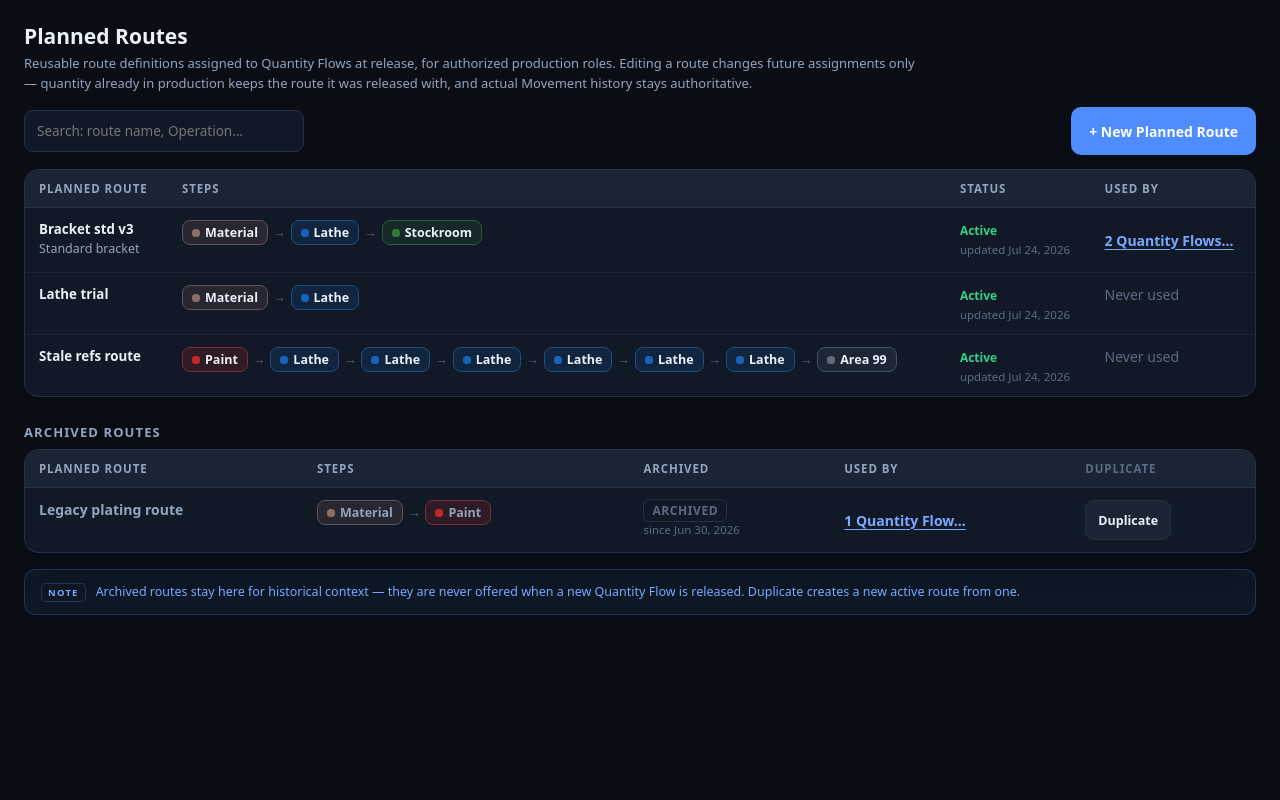
changing a step Area keeps only what the new Area offers
Expected: the text "Bracket std v3" is shown, [39,220,134,238]
Expected: the row that starts with "Bracket std v3" is shown, [25,208,1255,273]
Click the button with aria-label "Edit Bracket std v3" at (96, 239), box [39,220,154,257]
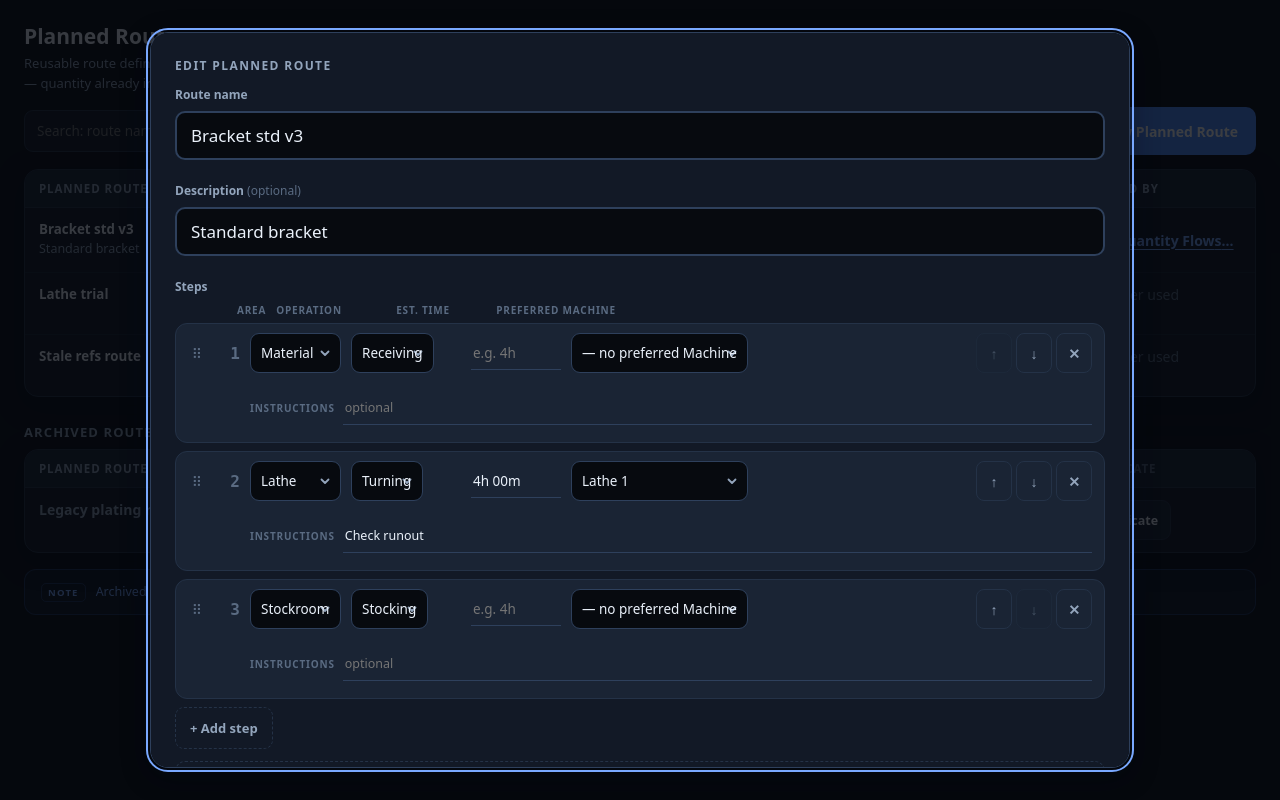
Now the dropdown named "Step 2 Operation" shows "Turning", box [351,461,423,501]
Now the dropdown named "Step 2 preferred Machine" shows "Lathe 1", box [571,461,748,501]
Select "Mill" in the dropdown named "Step 2 Area" at (296, 481), box [250,461,341,501]
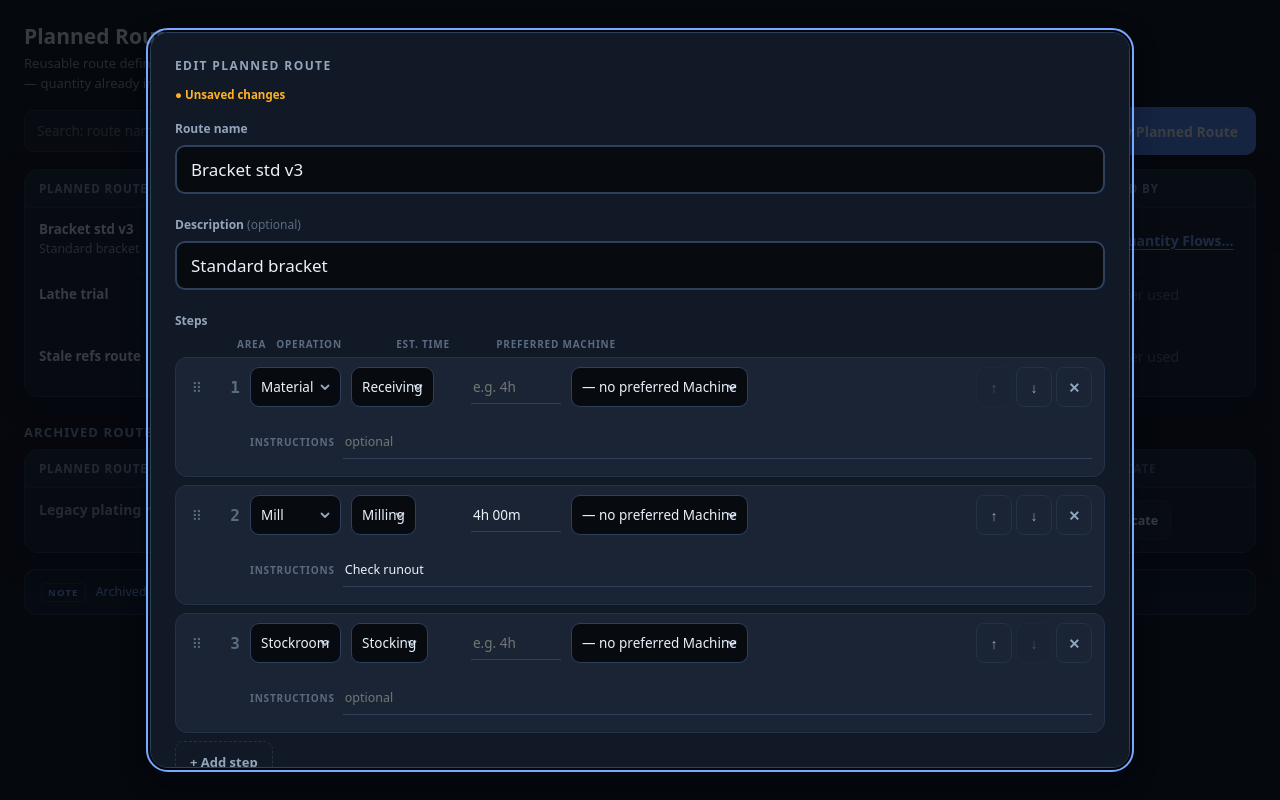
Now the dropdown named "Step 2 Operation" shows "Milling", box [351,495,416,535]
Now the dropdown named "Step 2 preferred Machine" shows "— no preferred Machine", box [571,495,748,535]
Select "Empty cell" in the dropdown named "Step 2 Area" at (296, 515), box [250,495,341,535]
(page scrolled)
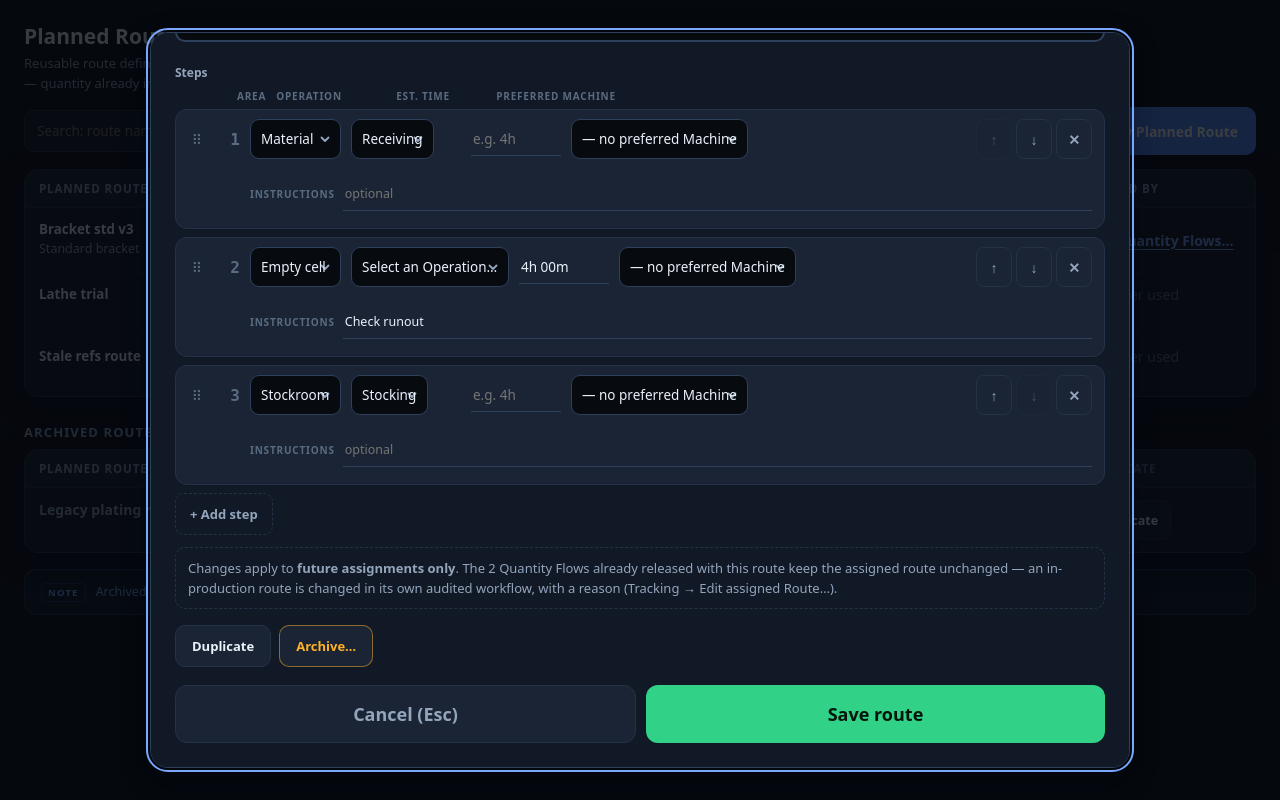
Now the dropdown named "Step 2 Operation" shows "Select an Operation…", box [351,247,509,287]
Click the button "Save route" at (876, 714), box [646,685,1105,743]
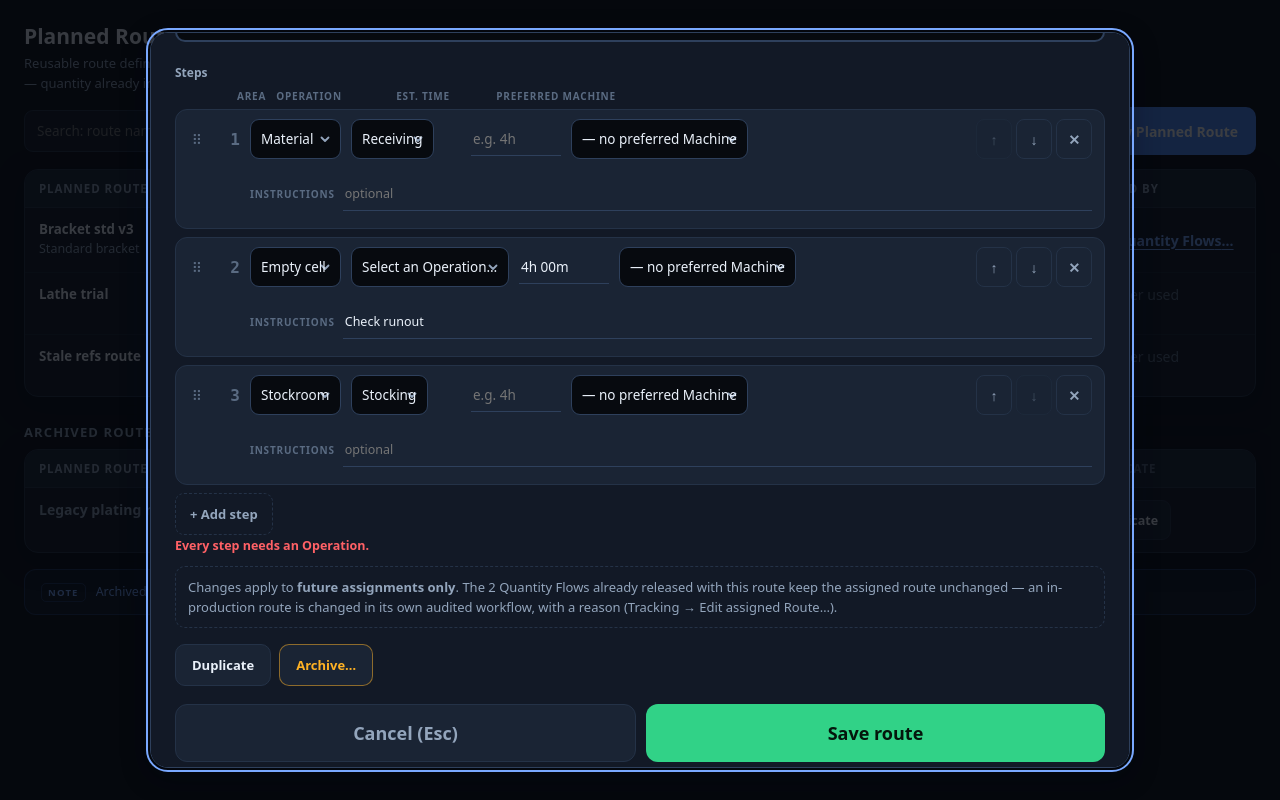
Now the message reads "Every step needs an Operation.", box [175,537,369,554]
